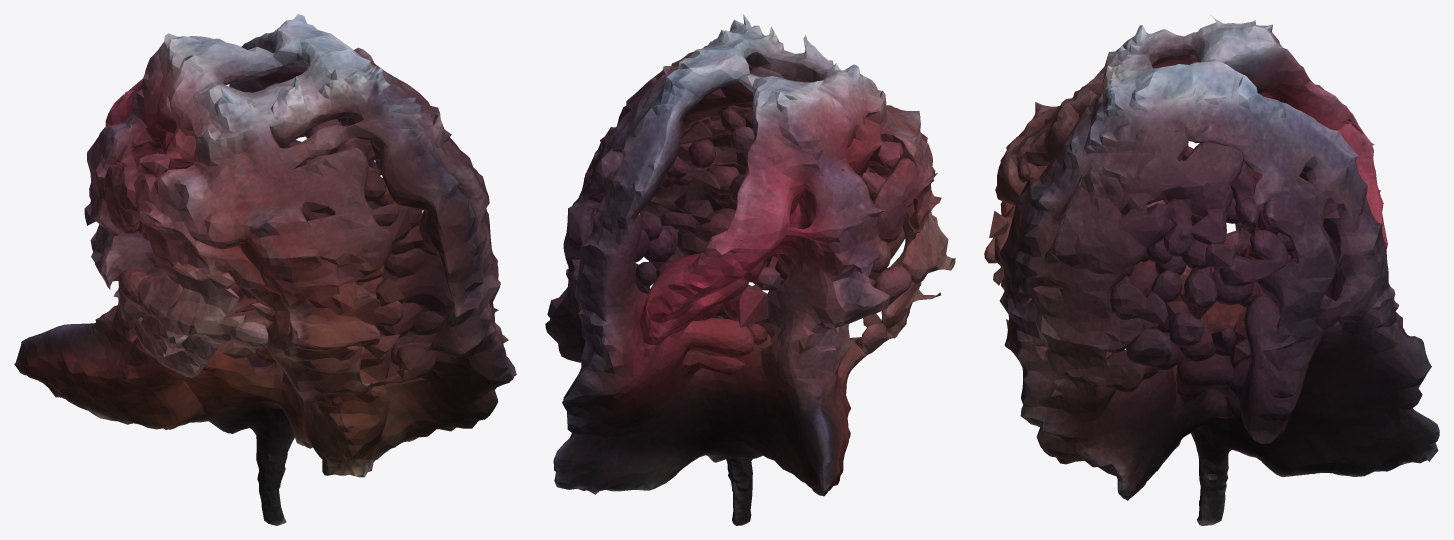
Rendered from IMG_SEG_03.glb.
3 renders of one model, left to right at view 1: azimuth 30°, elevation 25°; view 2: azimuth 150°, elevation 25°; view 3: azimuth 270°, elevation 25°, orthographic. The views are drawn at different scales.
Size of the model in its own units: 0.7134 by 0.9554 by 0.8427.
Materials: 1 (1 with a texture image).
